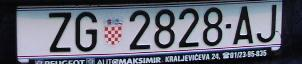.: (226, 23, 231, 29)
2: (129, 9, 151, 52), (179, 7, 200, 48)
8: (154, 8, 175, 48), (203, 7, 223, 46)
A: (232, 7, 253, 46)
G: (75, 11, 98, 52)
J: (256, 4, 277, 43)
Z: (49, 11, 71, 52)
